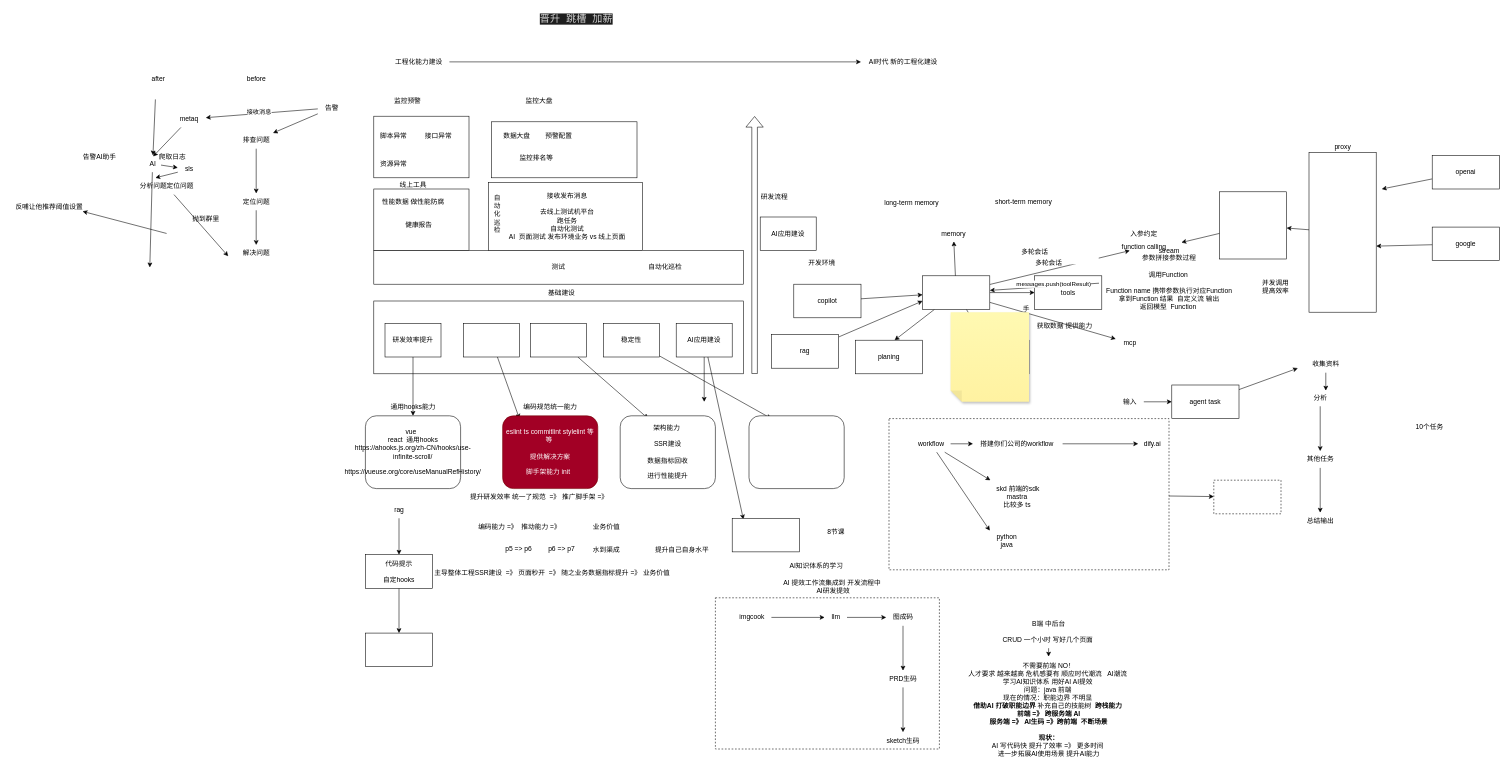
Image size: 1509x772. Some labels were removed from this diagram. The centre of each missing label's shape, as x and y in pixels:
"agent prompt llm 作为大脑" goes at (956,292).
"AI 生码" goes at (765,535).
"产出不同Agent" goes at (1247,497).
"前端稳定性SDK react vue 小程序等 异常 上报 数据收集 数据清洗 数据展示" goes at (796,452).
"工程编码规范" goes at (491,340).
"性能优化" goes at (558,340).
"更高效的编码代码" goes at (399,650).
"统一协议" goes at (1253,225).
